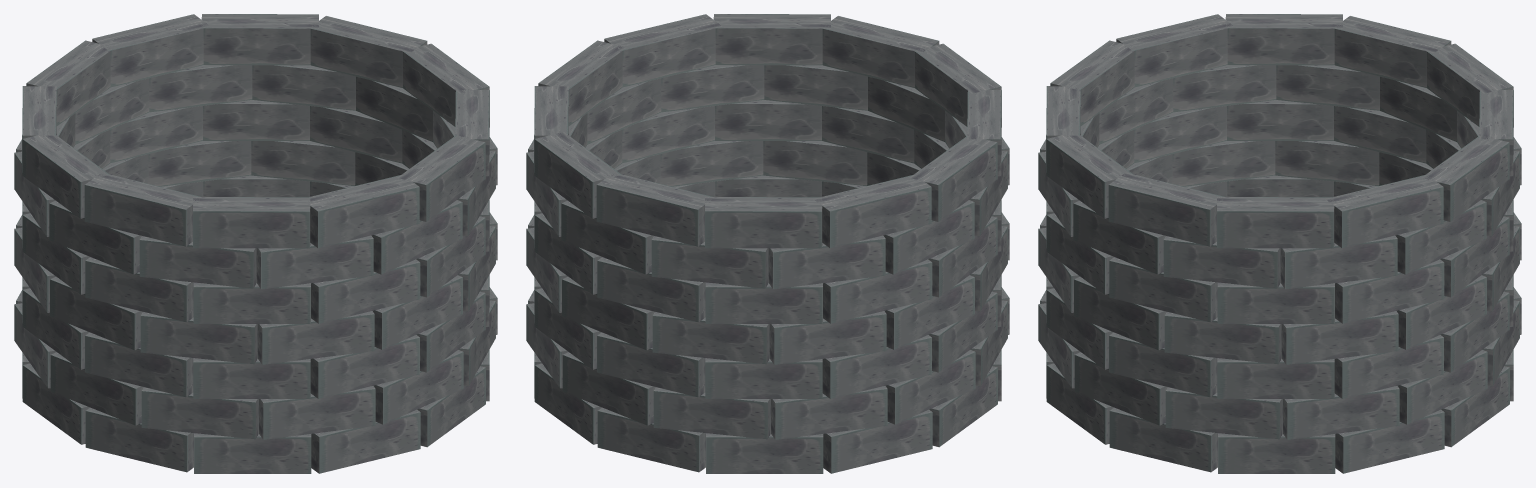
The model's file is poco.fbx.
The picture shows the model from 3 angles, left to right: view 1: azimuth 30°, elevation 25°; view 2: azimuth 150°, elevation 25°; view 3: azimuth 270°, elevation 25°; orthographic projection.
Parts seen in each view (by area): view 1: Poco; view 2: Poco; view 3: Poco.
Part boxes in pixels (x1=…): Poco: x1=14, y1=14, x2=497, y2=473; Poco: x1=526, y1=14, x2=1009, y2=473; Poco: x1=1038, y1=14, x2=1521, y2=473.
Size of the model in its own units: 152 by 90.97 by 152.
